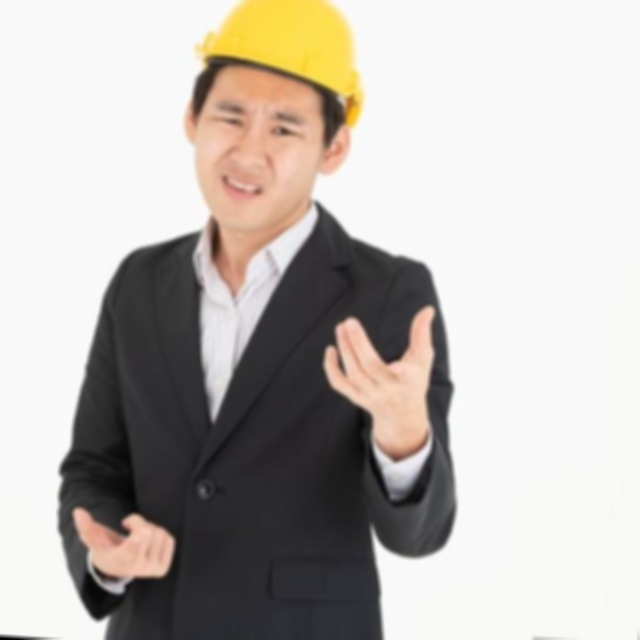Con_Casco: (171, 0, 373, 239)
Sin_Chaleco: (77, 215, 441, 640)
